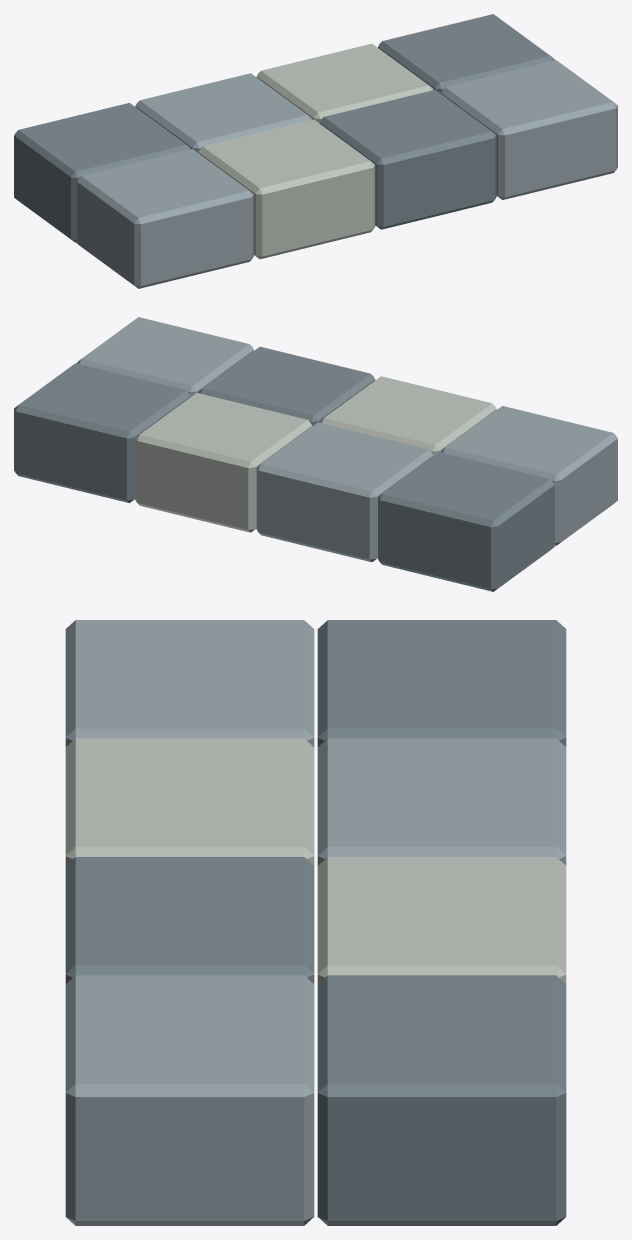
File: public_wall_foundation_2m.glb
3 renders of one model, top to bottom at view 1: azimuth 30°, elevation 25°; view 2: azimuth 150°, elevation 25°; view 3: azimuth 270°, elevation 25°, orthographic. The views are drawn at different scales.
Parts seen in each view (by area): view 1: public_wall_foundation_2m; view 2: public_wall_foundation_2m; view 3: public_wall_foundation_2m.
Part boxes in pixels (left/top/right/bottom): public_wall_foundation_2m: left=14, top=14, right=617, bottom=288; public_wall_foundation_2m: left=14, top=317, right=617, bottom=591; public_wall_foundation_2m: left=65, top=620, right=566, bottom=1225.
Bounding box in the file's own units: 1.99 × 0.28 × 0.894.
